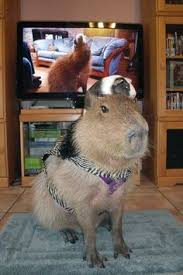capivara: (38, 95, 150, 268), (47, 42, 93, 96)
